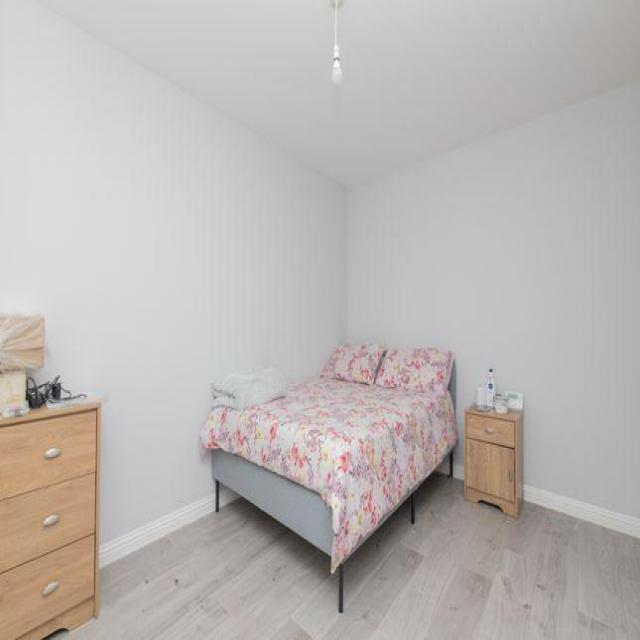Wall: (0, 2, 640, 562), (44, 0, 640, 187), (56, 473, 640, 638)
